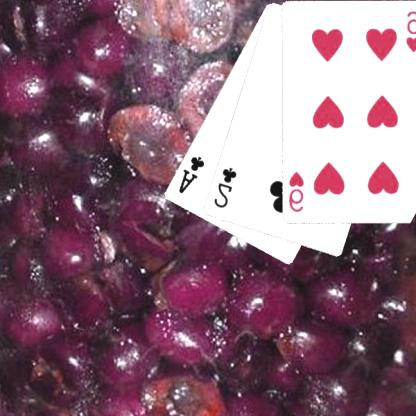2C: (212, 164, 240, 210)
6H: (287, 169, 306, 214), (405, 9, 416, 54)
AC: (178, 154, 208, 195)
